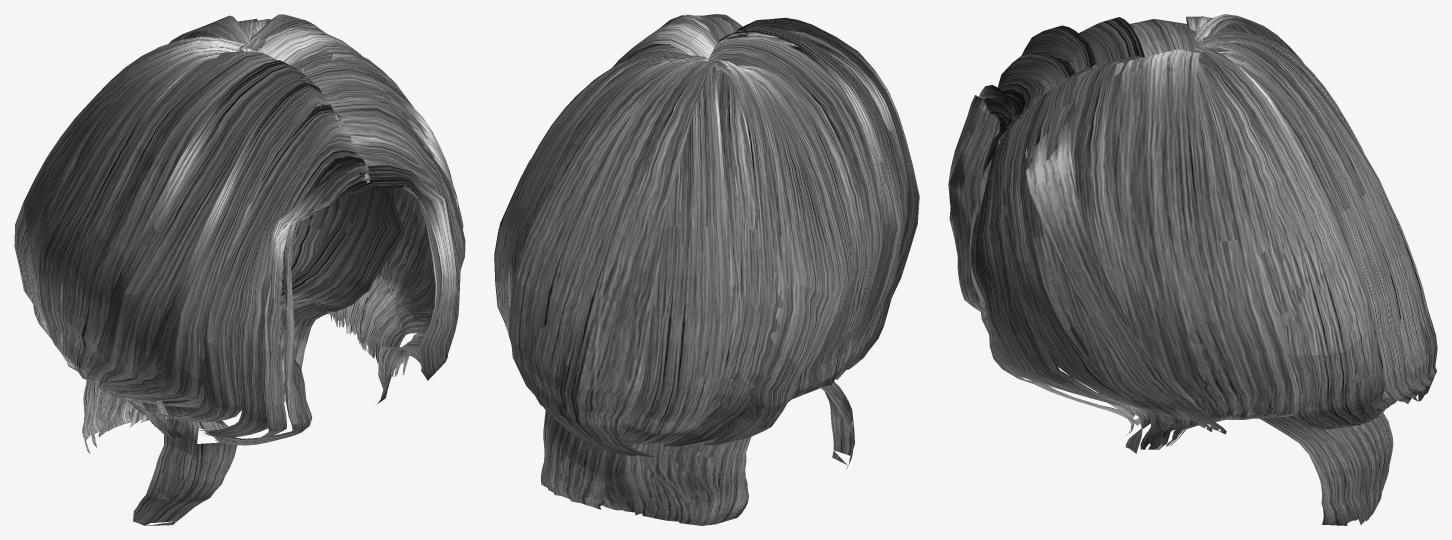
File: hair_long01.glb
The picture shows the model from 3 angles, left to right: view 1: azimuth 30°, elevation 25°; view 2: azimuth 150°, elevation 25°; view 3: azimuth 270°, elevation 25°; orthographic projection. The views are drawn at different scales.
Parts seen in each view (by area): view 1: hair_long01; view 2: hair_long01; view 3: hair_long01.
Boxes of the visible parts, x1,y1,x2,y2 form: hair_long01: [14, 14, 465, 525]; hair_long01: [494, 14, 919, 525]; hair_long01: [948, 14, 1437, 525].
Size of the model in its own units: 0.2063 by 0.2429 by 0.2412.
1 material, 1 textured.
